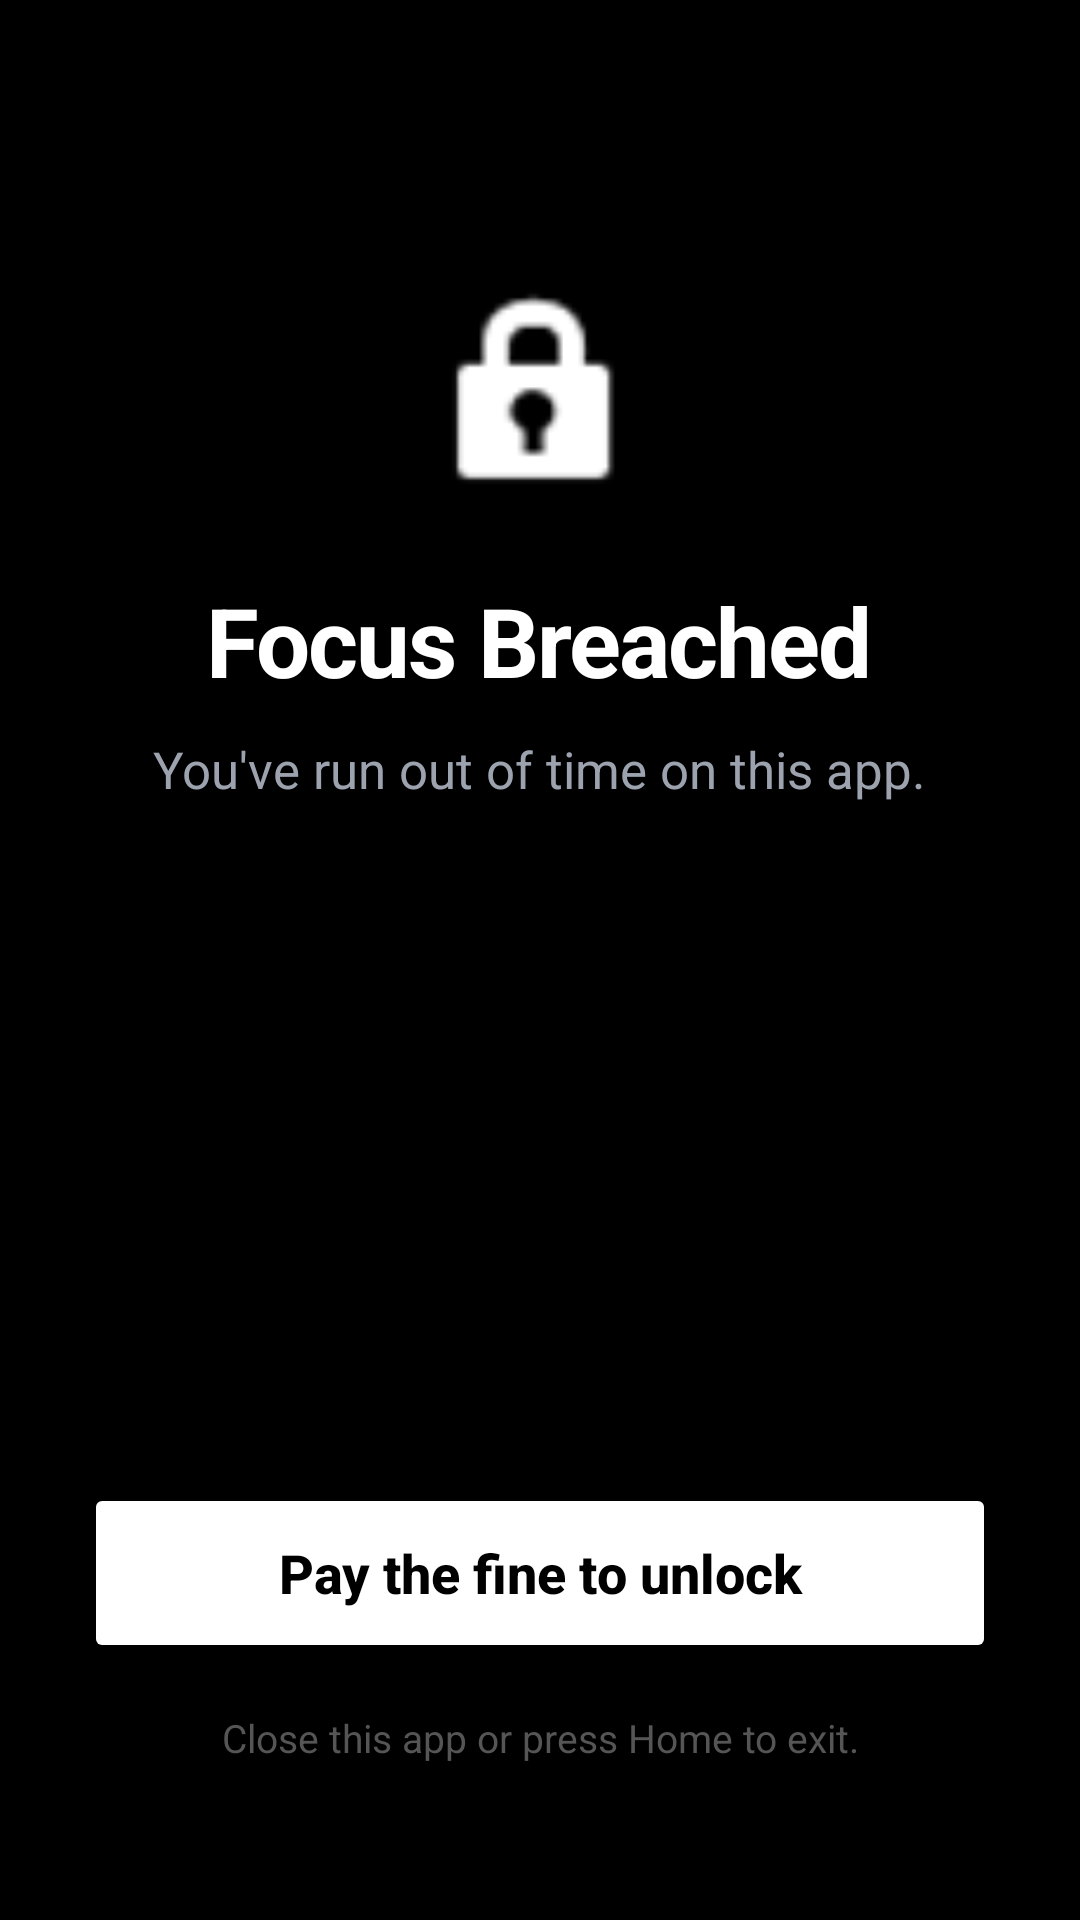

Where icons sit on this 1080px x 1920px app screen, as (x1, y1, x2, y2):
lock idle: (456, 295, 614, 480)
